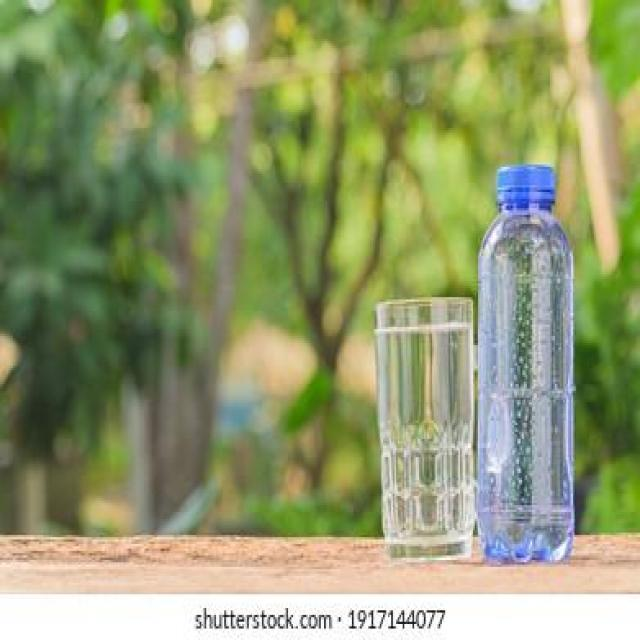bottle: (475, 154, 586, 577)
